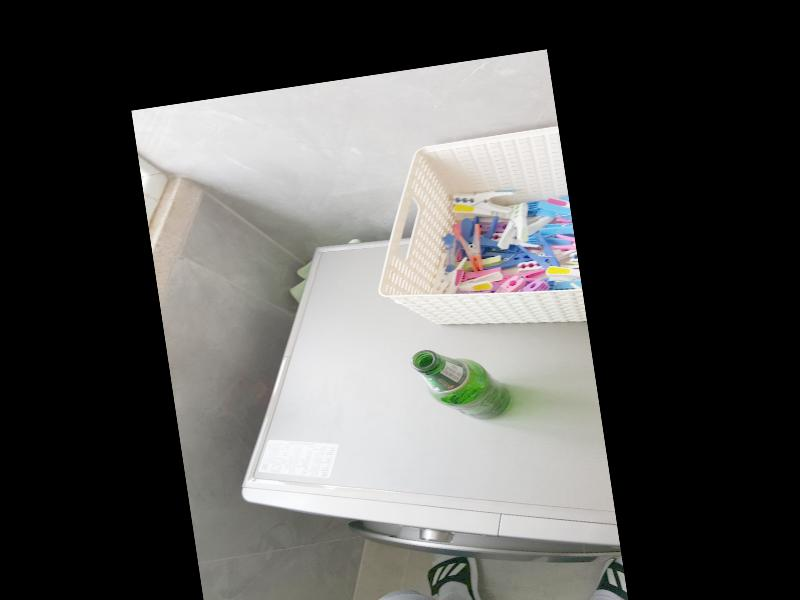Beer: (409, 340, 512, 430)
